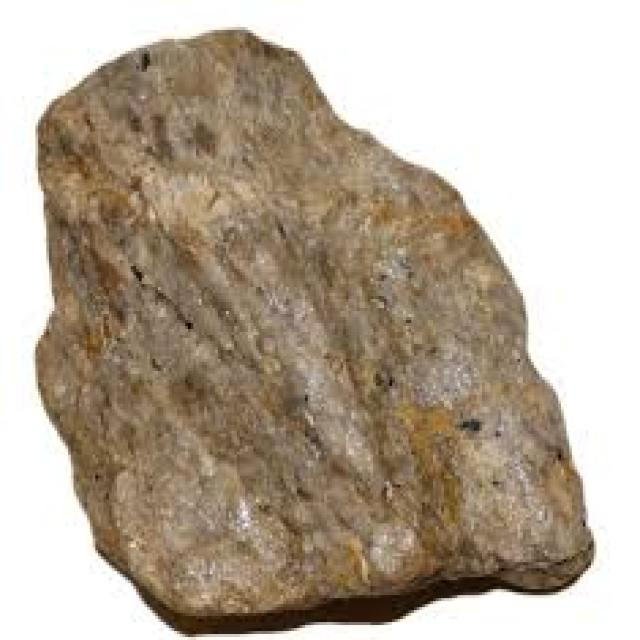Metamorphic: (32, 33, 604, 622)
